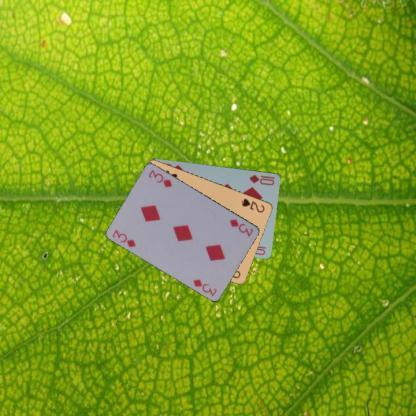10d: (247, 172, 276, 186)
2s: (238, 196, 266, 214)
3d: (110, 226, 138, 249), (228, 216, 255, 238)
